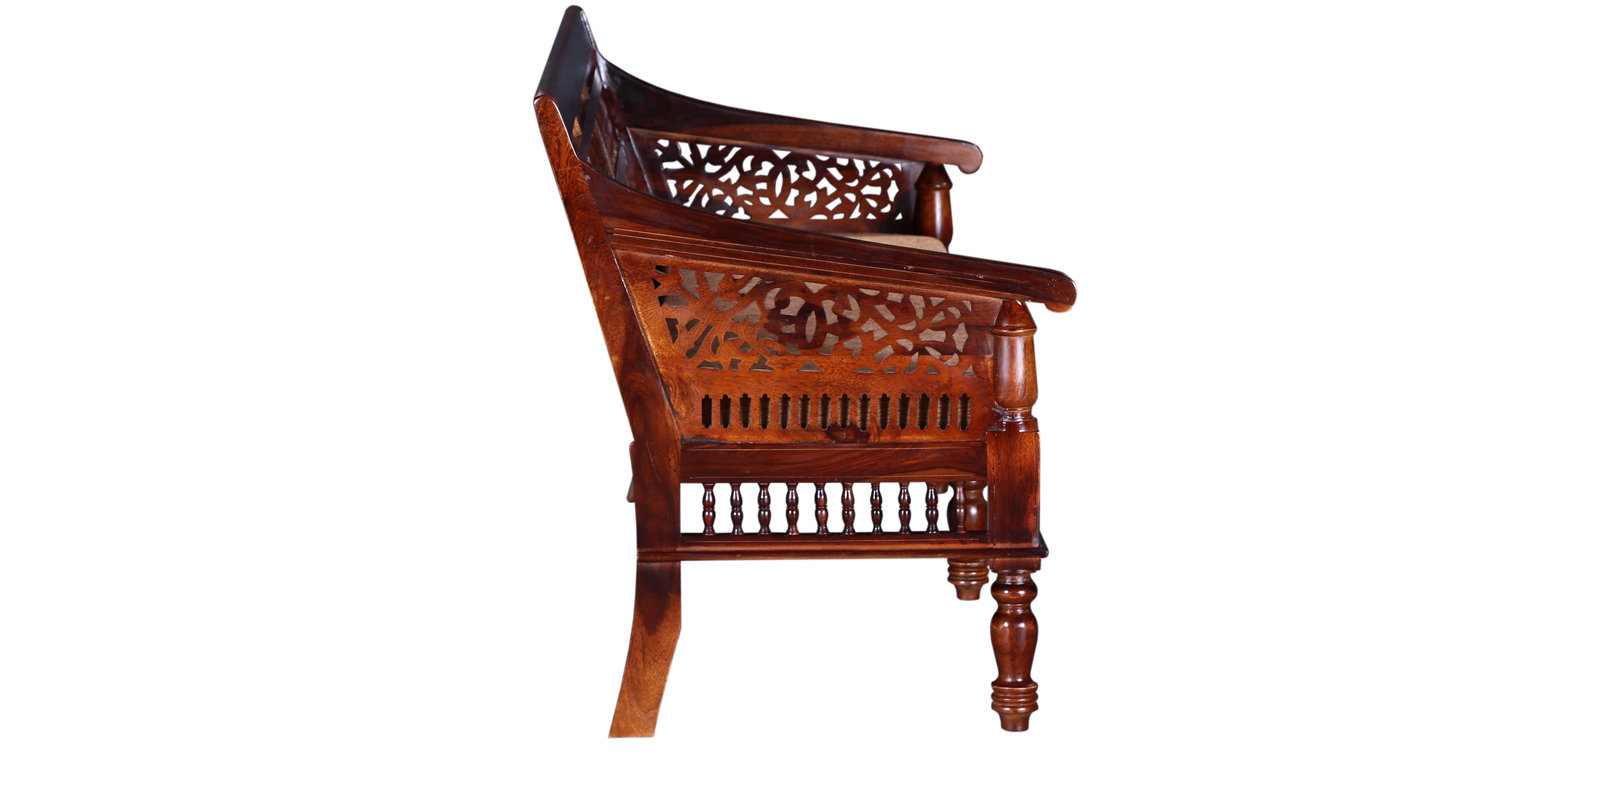Maurya Handcrafted Three Seater Sofa in Honey Oak Finish by Mudramark: (531, 3, 1124, 739)
